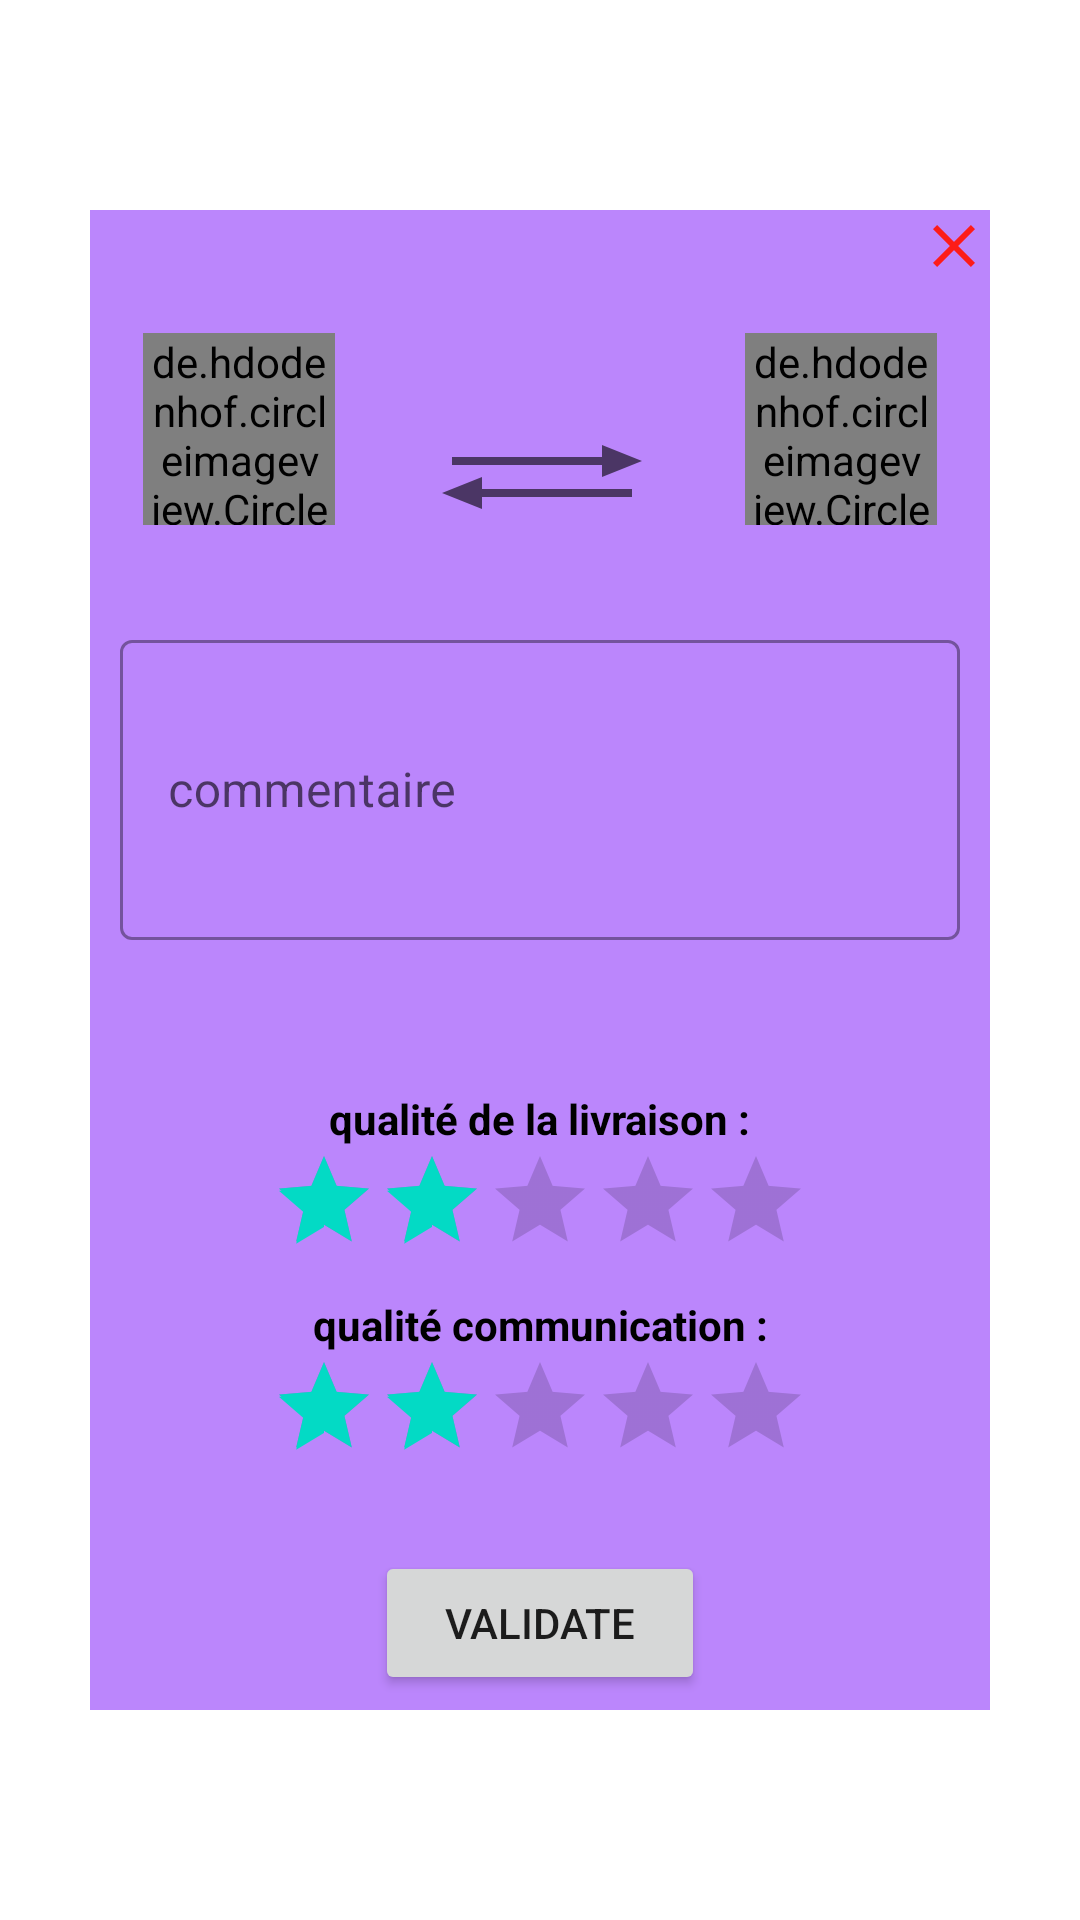

Screen size 1080 × 1920. Icon name, then its center in pixels as (x=x, y=y):
clear: (x=954, y=246)
sync: (x=542, y=477)
